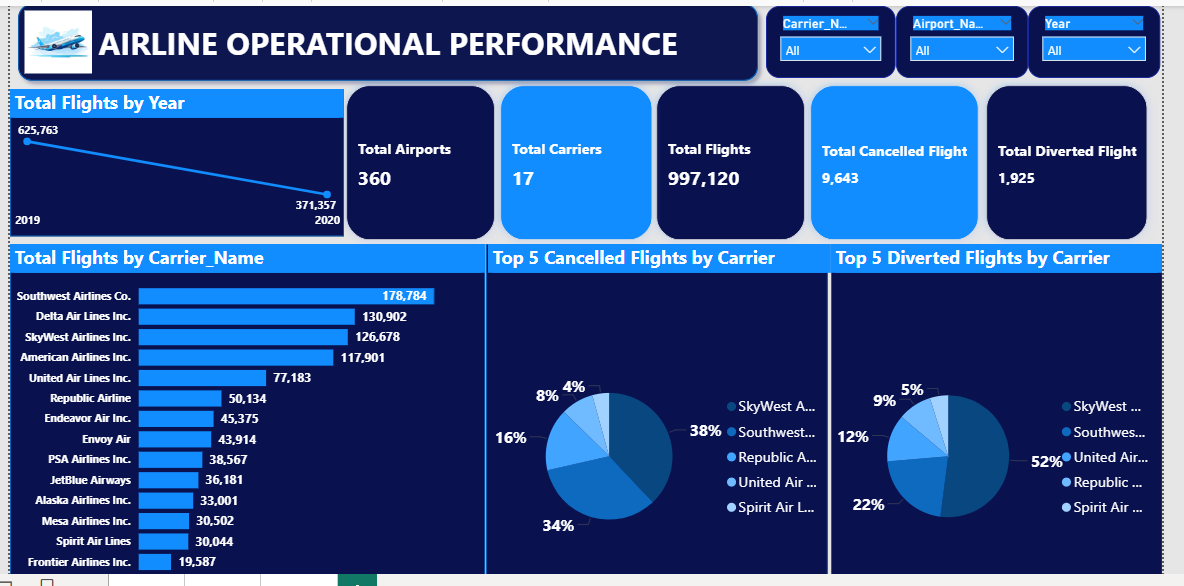

This screenshot's page, from the dashboard's own definition file:
{"tool":"powerbi","page":{"name":"Page 1","canvas":[1280,720],"ordinal":0},"visuals":[{"type":"shape","box":[912,275.3,368.5,444.7],"z":0},{"type":"shape","box":[529.4,275.3,379.8,444.7],"z":1000},{"type":"cardVisual","fields":{"Data":["Measure.Arrival Flights"]},"box":[701.6,81.9,199.1,206.1],"z":2000},{"type":"slicer","fields":{"Values":["airline_delay - Copy.carrier_name"]},"box":[840,11.3,144,80.5],"z":3000},{"type":"slicer","fields":{"Values":["Aviation.airport_name"]},"box":[984,11.3,146.8,80.5],"z":4000},{"type":"cardVisual","fields":{"Data":["Measure.Total Airports"]},"box":[357.2,81.9,199.1,206.1],"z":5000},{"type":"cardVisual","fields":{"Data":["Measure.Total Carriers"]},"box":[528,81.9,203.3,206.1],"z":6000},{"type":"slicer","fields":{"Values":["Aviation.year"]},"box":[1130.8,11.3,146.8,80.5],"z":7000},{"type":"shape","box":[0,275.3,528,444.7],"z":8000},{"type":"clusteredBarChart","fields":{"Category":["Aviation.carrier_name"],"Y":["Measure.Arrival Flights"]},"box":[0,275.3,528,444.7],"z":9000},{"type":"shape","box":[0,103.1,371.3,163.8],"z":10000},{"type":"lineChart","fields":{"Y":["Measure.Arrival Flights"],"Category":["Aviation.Year"]},"box":[0,103.1,371.3,163.8],"z":11000},{"type":"shape","box":[0,0,840,103.1],"z":12000},{"type":"image","box":[11.3,11.3,84.7,80.5],"z":13000},{"type":"cardVisual","fields":{"Data":["Sum(Aviation.Arr_Cancelled)"]},"box":[872.5,81.9,221.6,206.1],"z":14000},{"type":"cardVisual","fields":{"Data":["Sum(Aviation.Arr_Diverted)"]},"box":[1067.3,81.9,213.2,206.1],"z":15000},{"type":"pieChart","title":"Top 5 Diverted Flights by Carrier","fields":{"Y":["Sum(Aviation.Arr_Diverted)"],"Category":["Aviation.Carrier_Name"]},"box":[912,275.3,368.5,444.7],"z":16000},{"type":"pieChart","title":"Top 5 Cancelled Flights by Carrier","fields":{"Category":["Aviation.Carrier_Name"],"Y":["Sum(Aviation.Arr_Cancelled)"]},"box":[530.8,275.3,381.2,444.7],"z":17000}]}

Visuals, with their boxes on the page's 1280x720 design canvas (x1, y1, x2, y2). These are canvas units, not pixel positions in the 1184x586 screenshot, which may show the page scaled, cropped or inside an application window:
shape: <region>912, 275, 1280, 720</region>
shape: <region>529, 275, 909, 720</region>
cardVisual - Measure.Arrival Flights: <region>702, 82, 901, 288</region>
slicer - airline_delay - Copy.carrier_name: <region>840, 11, 984, 92</region>
slicer - Aviation.airport_name: <region>984, 11, 1131, 92</region>
cardVisual - Measure.Total Airports: <region>357, 82, 556, 288</region>
cardVisual - Measure.Total Carriers: <region>528, 82, 731, 288</region>
slicer - Aviation.year: <region>1131, 11, 1278, 92</region>
shape: <region>0, 275, 528, 720</region>
clusteredBarChart - Aviation.carrier_name x Measure.Arrival Flights: <region>0, 275, 528, 720</region>
shape: <region>0, 103, 371, 267</region>
lineChart - Measure.Arrival Flights x Aviation.Year: <region>0, 103, 371, 267</region>
shape: <region>0, 0, 840, 103</region>
image: <region>11, 11, 96, 92</region>
cardVisual - Sum(Aviation.Arr_Cancelled): <region>872, 82, 1094, 288</region>
cardVisual - Sum(Aviation.Arr_Diverted): <region>1067, 82, 1280, 288</region>
"Top 5 Diverted Flights by Carrier" pieChart: <region>912, 275, 1280, 720</region>
"Top 5 Cancelled Flights by Carrier" pieChart: <region>531, 275, 912, 720</region>
